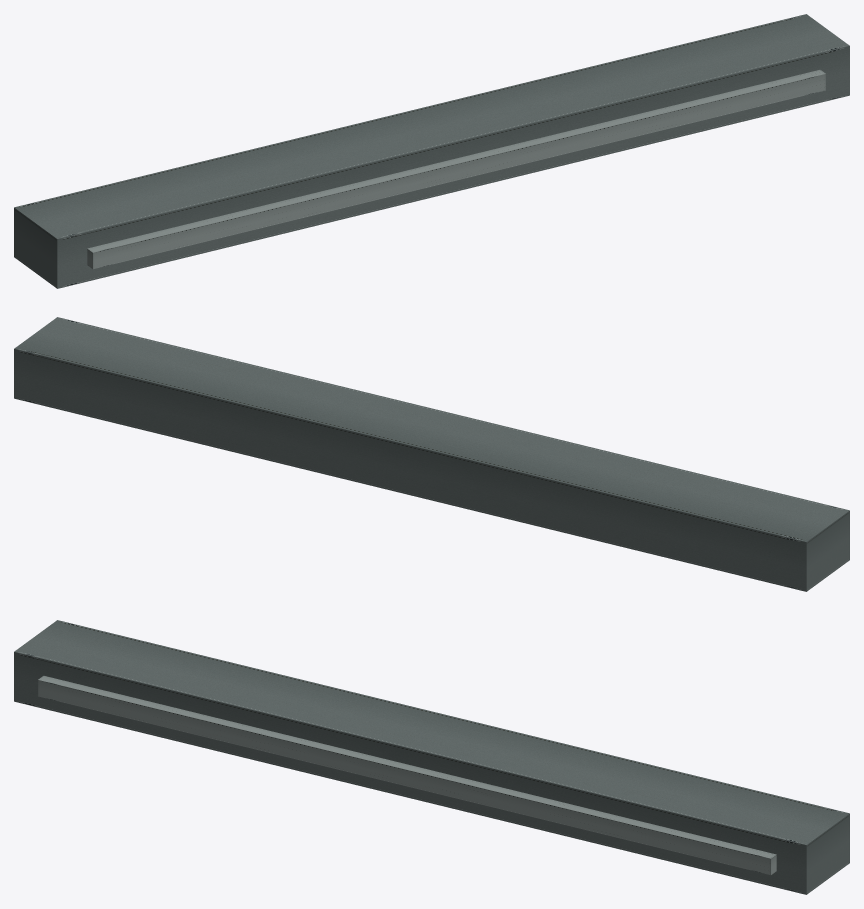
The model's file is beam_4m_LOD2.obj.
3 renders of one model, top to bottom at view 1: azimuth 30°, elevation 25°; view 2: azimuth 150°, elevation 25°; view 3: azimuth 330°, elevation 25°, orthographic.
Parts seen in each view (by area): view 1: L02_beam_4m_LOD2; view 2: L02_beam_4m_LOD2; view 3: L02_beam_4m_LOD2.
Boxes of the visible parts, box(x1,y1,x2,y2) form: L02_beam_4m_LOD2: box(14, 14, 849, 288); L02_beam_4m_LOD2: box(14, 317, 849, 591); L02_beam_4m_LOD2: box(14, 620, 849, 894).
Bounding box in the file's own units: 4 × 0.24 × 0.43.
1 material, 1 textured.
